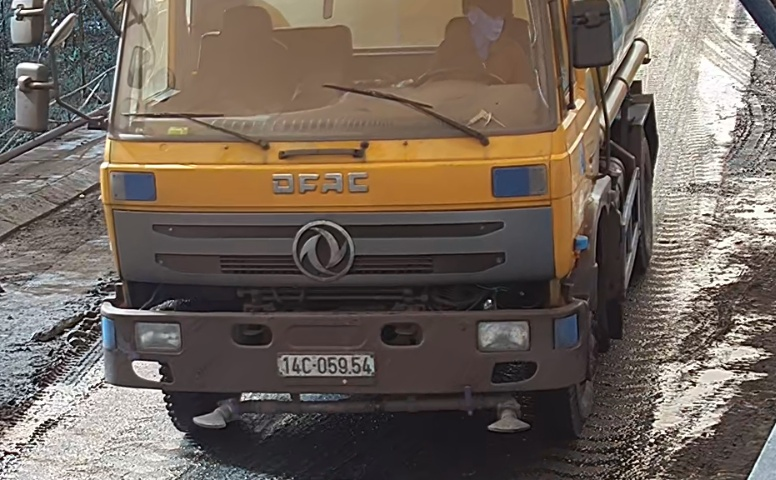vehicle plate: (272, 351, 376, 375)
